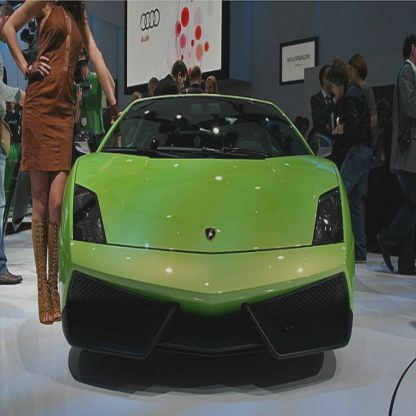Vehicle: (58, 95, 365, 377)
